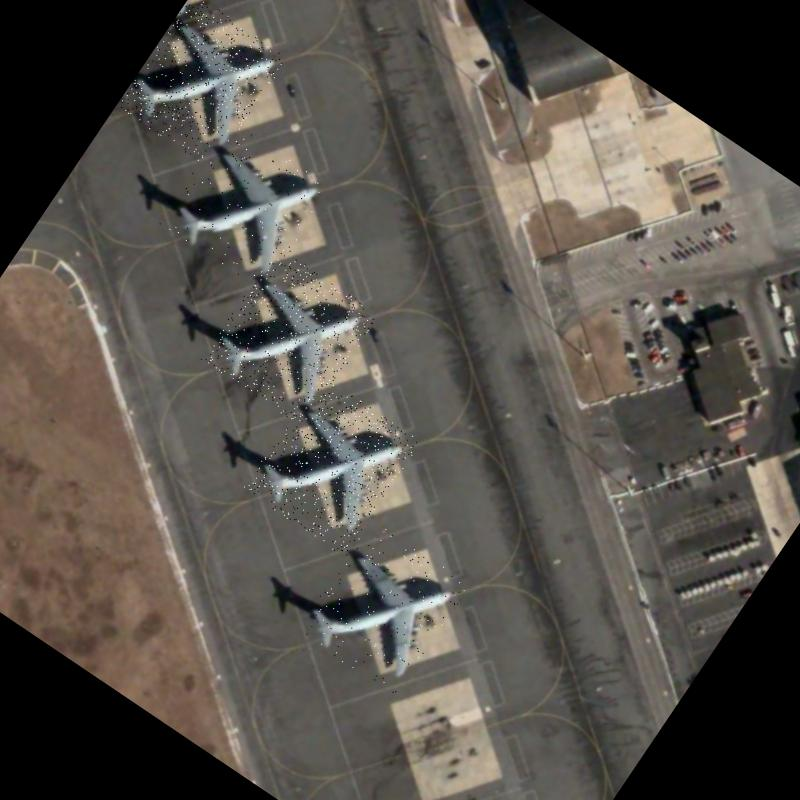A4: (200, 246, 380, 429), (242, 374, 421, 557), (157, 118, 336, 298), (295, 518, 471, 698), (116, 0, 289, 171)
